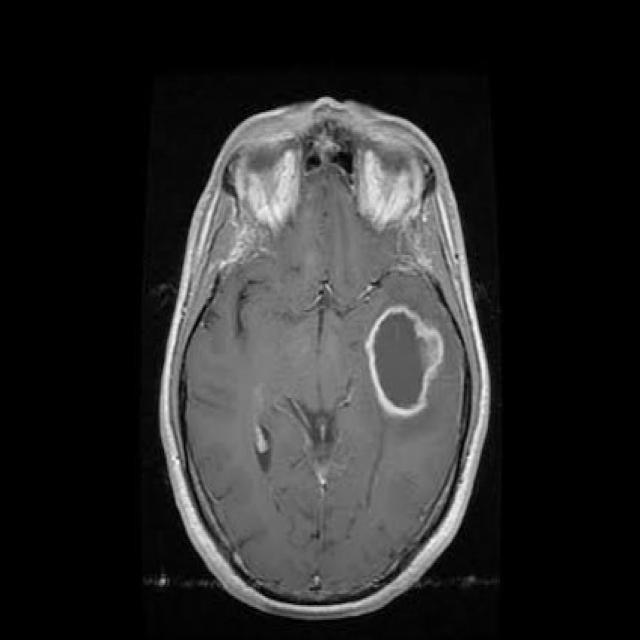Tumor-Cell: (364, 304, 446, 422)
